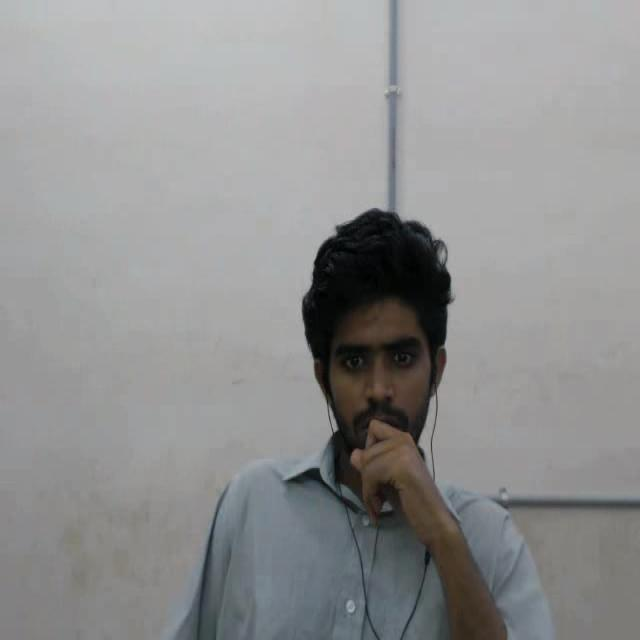Bored: (292, 179, 494, 535)
